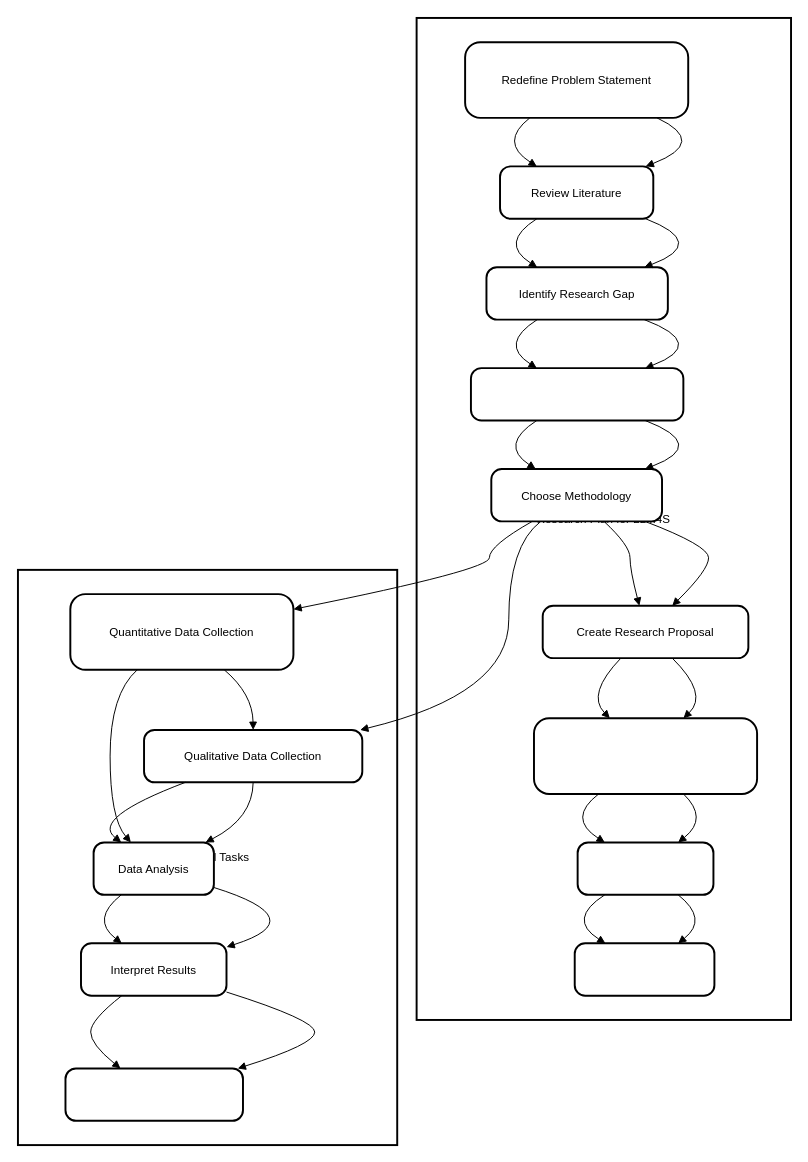
Some shapes in this 808 by 1162 pixel diagram are drawn without their labels. The box of each missing label's shape, as (x1, y1, x2, y2) in pixels:
Define Research Questions: (469, 367, 684, 421)
Review Proposal with Advisor: (533, 717, 758, 794)
Revise Proposal: (576, 841, 714, 895)
Submit Proposal: (573, 942, 715, 996)
Write Research Paper: (64, 1067, 243, 1121)
